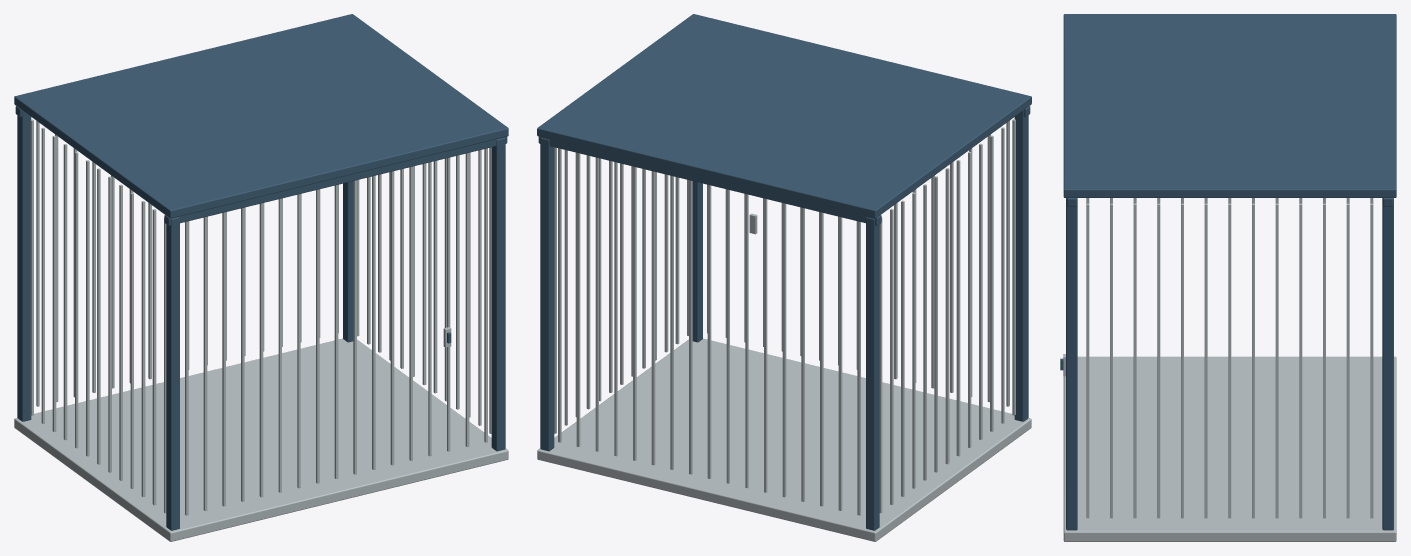
Rendered from container-inspection-and-customs-yard-container-inspec-8a107edd__29294.glb.
3 renders of one model, left to right at view 1: azimuth 30°, elevation 25°; view 2: azimuth 150°, elevation 25°; view 3: azimuth 270°, elevation 25°, orthographic. The views are drawn at different scales.
Parts seen in each view (by area): view 1: container-inspection-and-customs-yard-bonded-cage; view 2: container-inspection-and-customs-yard-bonded-cage; view 3: container-inspection-and-customs-yard-bonded-cage.
Boxes of the visible parts, <box> form: container-inspection-and-customs-yard-bonded-cage: <box>14,14,508,541</box>; container-inspection-and-customs-yard-bonded-cage: <box>537,14,1031,541</box>; container-inspection-and-customs-yard-bonded-cage: <box>1060,14,1396,541</box>.
Bounding box in the file's own units: 2.5 × 2.34 × 2.02.
